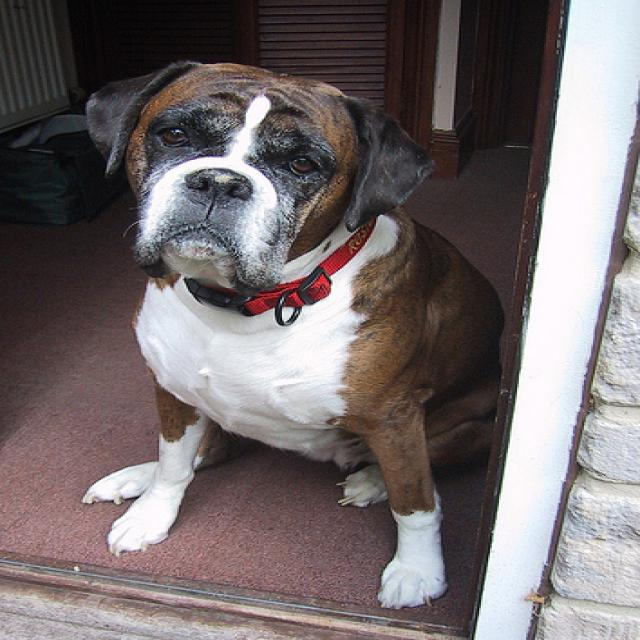dog-boxer: (67, 54, 519, 622)
